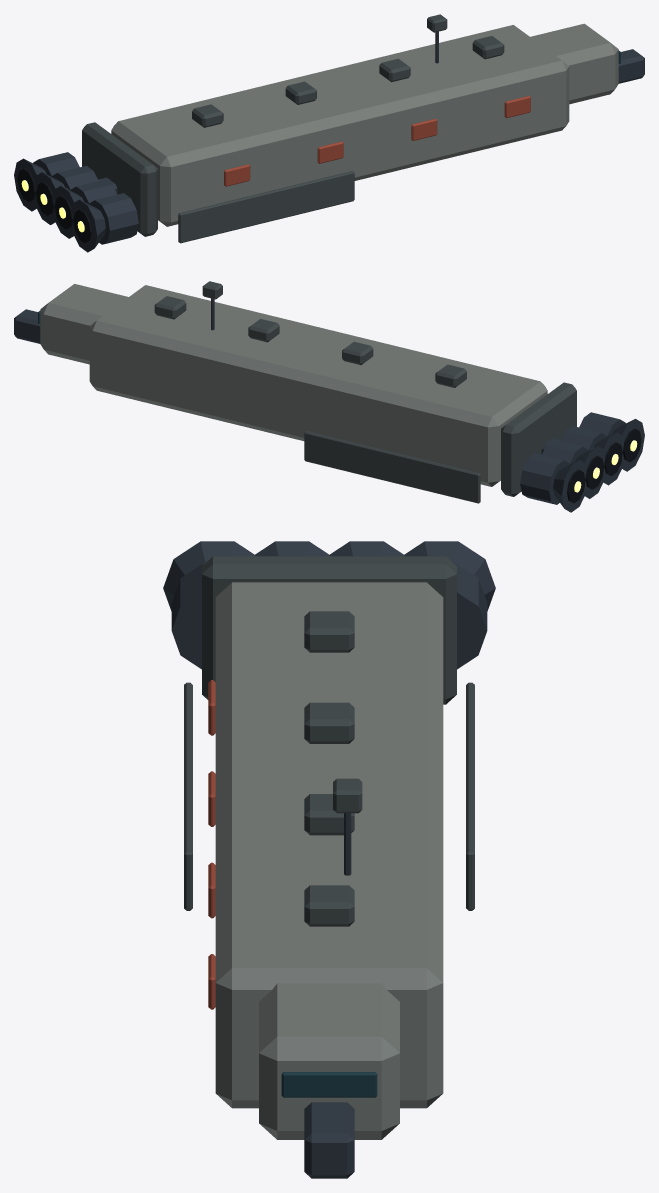
The model's file is long-memory.glb.
The picture shows the model from 3 angles, top to bottom: view 1: azimuth 30°, elevation 25°; view 2: azimuth 150°, elevation 25°; view 3: azimuth 270°, elevation 25°; orthographic projection. The views are drawn at different scales.
Parts seen in each view (by area): view 1: armored mission hull, shuttered radiator, reactor shield, forward command, engine jacket, engine bell, structural spine, engine jacket.001, engine jacket.002, engine jacket.003, engine bell.003, dorsal mount.003 (+13 smaller); view 2: armored mission hull, shuttered radiator.001, reactor shield, forward command, engine jacket.003, structural spine, engine bell.003, engine jacket, engine jacket.002, engine jacket.001, engine bell.001, dorsal mount.003 (+9 smaller); view 3: armored mission hull, forward command, reactor shield, structural spine, bridge glazing, engine jacket, engine jacket.003, dorsal mount, dorsal mount.003, dorsal mount.001, shuttered radiator, shuttered radiator.001 (+6 smaller).
Part boxes in pixels (box(x1,y1,x2,y2)): armored mission hull: box(111, 25, 569, 226); shuttered radiator: box(178, 171, 354, 243); reactor shield: box(82, 122, 157, 236); forward command: box(530, 23, 618, 104); engine jacket: box(89, 193, 138, 244); engine bell: box(71, 199, 105, 252); structural spine: box(65, 49, 644, 193); engine jacket.001: box(70, 179, 116, 203); engine jacket.002: box(51, 166, 98, 190); engine jacket.003: box(33, 152, 79, 176); engine bell.003: box(14, 158, 46, 211); dorsal mount.003: box(472, 36, 504, 59); armored mission hull: box(89, 285, 547, 486); shuttered radiator.001: box(304, 431, 480, 503); reactor shield: box(501, 382, 576, 496); forward command: box(40, 284, 128, 364); engine jacket.003: box(520, 453, 569, 504); structural spine: box(14, 309, 593, 454); engine bell.003: box(553, 460, 584, 512); engine jacket: box(579, 412, 625, 436); engine jacket.002: box(542, 439, 588, 464); engine jacket.001: box(560, 426, 606, 450); engine bell.001: box(594, 432, 624, 485); dorsal mount.003: box(154, 296, 186, 319); armored mission hull: box(215, 582, 443, 1108); forward command: box(259, 983, 399, 1139); reactor shield: box(202, 556, 456, 704); structural spine: box(304, 1102, 354, 1178); bridge glazing: box(281, 1072, 377, 1097); engine jacket: box(171, 563, 204, 669); engine jacket.003: box(454, 563, 487, 669); dorsal mount: box(304, 611, 354, 652); dorsal mount.003: box(304, 885, 354, 926); dorsal mount.001: box(304, 702, 354, 743); shuttered radiator: box(184, 682, 192, 910); shuttered radiator.001: box(466, 682, 474, 910).
Bounding box in the file's own units: 14.92 × 3 × 3.66.
